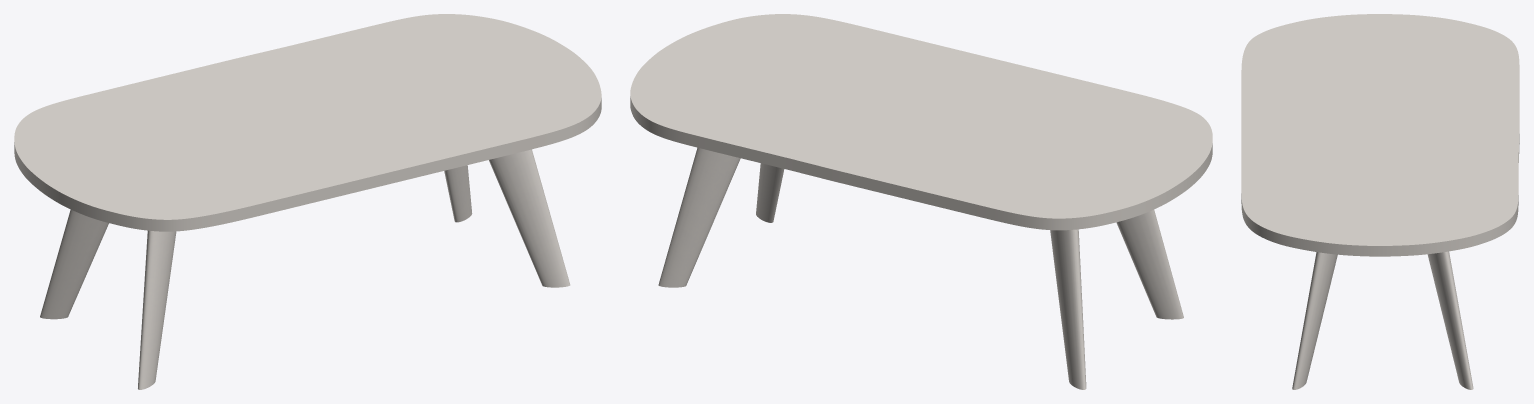
Rendered from pearlwhite_oval_standard_ferdinantwalnut.glb.
3 renders of one model, left to right at view 1: azimuth 30°, elevation 25°; view 2: azimuth 150°, elevation 25°; view 3: azimuth 270°, elevation 25°, orthographic. The views are drawn at different scales.
Parts seen in each view (by area): view 1: standard_oval, ferdinandwalnut; view 2: standard_oval, ferdinandwalnut; view 3: standard_oval, ferdinandwalnut.
Part boxes in pixels (x1,y1,x2,y2): standard_oval: (14,14,601,231); ferdinandwalnut: (40,149,570,389); standard_oval: (630,14,1212,230); ferdinandwalnut: (658,147,1183,389); standard_oval: (1241,14,1519,256); ferdinandwalnut: (1292,251,1473,389).
Size of the model in its own units: 7.5 by 2.51 by 3.8.
1 material, 1 textured.
